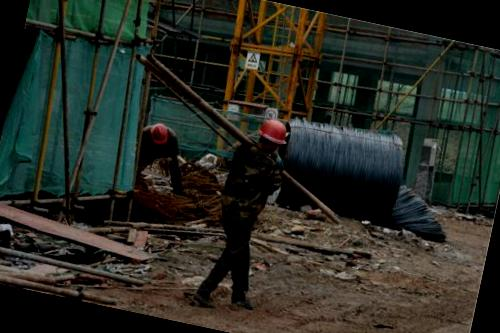person: (184, 110, 298, 316), (120, 118, 192, 202)
